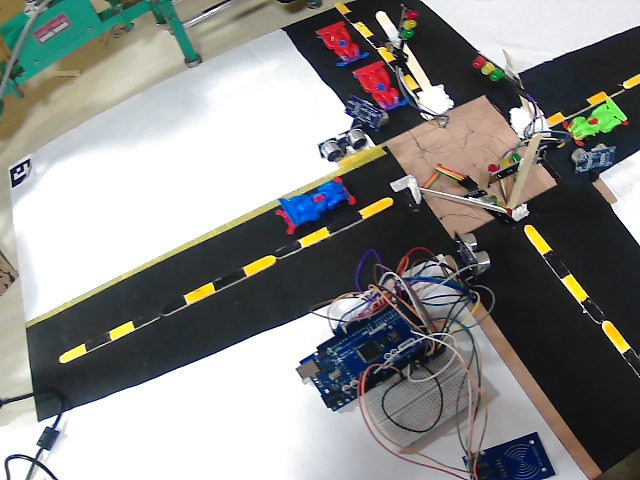aruco_marker: (6, 165, 33, 180)
black_strip: (124, 306, 160, 336), (540, 248, 572, 278), (580, 291, 610, 323), (212, 267, 244, 294), (326, 210, 362, 234), (161, 294, 191, 321), (84, 327, 109, 351), (271, 236, 296, 258), (558, 99, 586, 114), (624, 344, 638, 372), (390, 57, 408, 74), (602, 80, 624, 93), (368, 33, 381, 47), (344, 8, 355, 21)
car: (275, 171, 354, 234), (562, 95, 631, 146), (352, 57, 407, 111), (314, 17, 368, 66)
mixed_lane: (64, 189, 392, 360), (526, 219, 640, 362), (335, 0, 416, 87), (548, 66, 637, 122)
traffic_light: (447, 186, 518, 218), (418, 39, 475, 66), (486, 149, 527, 179), (468, 53, 504, 84)
uno_breadboard: (288, 275, 454, 416), (360, 345, 492, 452), (460, 426, 555, 480), (313, 122, 372, 162), (450, 219, 492, 270), (567, 144, 622, 174), (344, 90, 384, 125)
yellow_strip: (600, 318, 628, 351), (301, 222, 328, 252), (362, 192, 392, 216), (558, 273, 587, 297), (188, 279, 212, 306), (246, 252, 274, 275), (527, 222, 548, 252), (110, 318, 134, 342), (59, 339, 82, 363), (346, 18, 372, 39), (591, 87, 617, 101), (622, 71, 638, 87), (380, 45, 394, 62), (548, 111, 562, 125), (336, 0, 348, 15), (406, 75, 417, 87)
